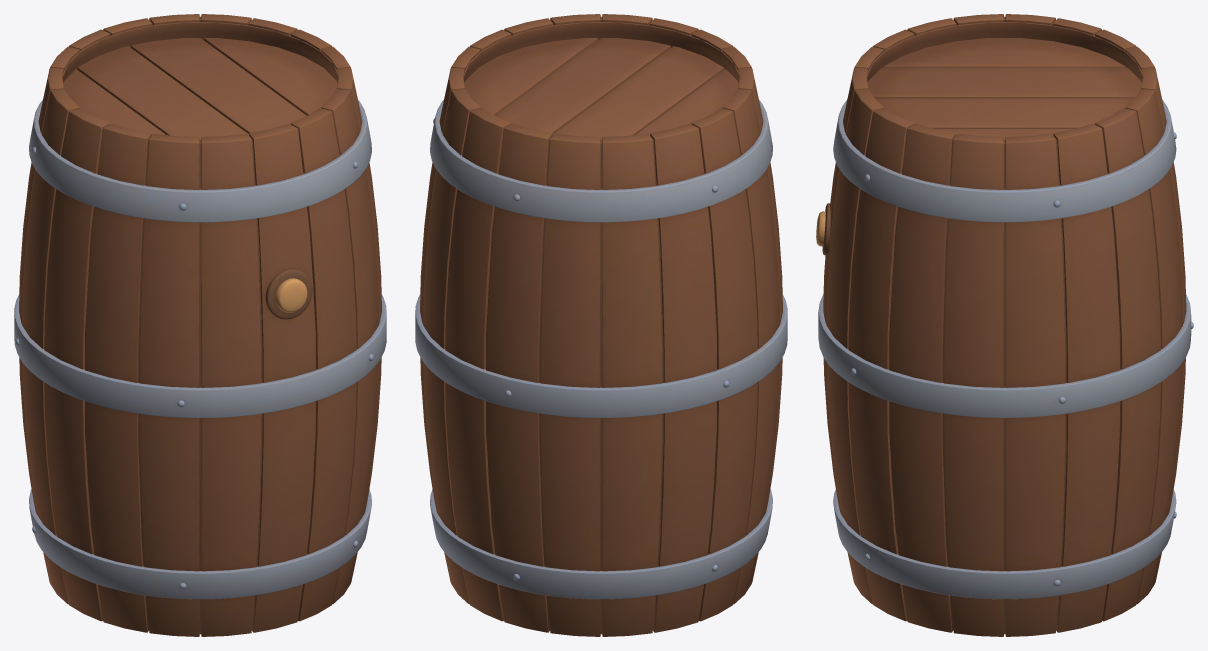
File: old-barrel.obj
The picture shows the model from 3 angles, left to right: view 1: azimuth 30°, elevation 25°; view 2: azimuth 150°, elevation 25°; view 3: azimuth 270°, elevation 25°; orthographic projection.
Parts seen in each view (by area): view 1: old-barrel_body; view 2: old-barrel_body; view 3: old-barrel_body.
Boxes of the visible parts, left/top/right/bottom form: old-barrel_body: left=14, top=14, right=386, bottom=636; old-barrel_body: left=415, top=14, right=787, bottom=636; old-barrel_body: left=816, top=14, right=1193, bottom=636.
Size of the model in its own units: 0.615 by 0.9 by 0.6229.
Materials: 1 (1 with a texture image).
